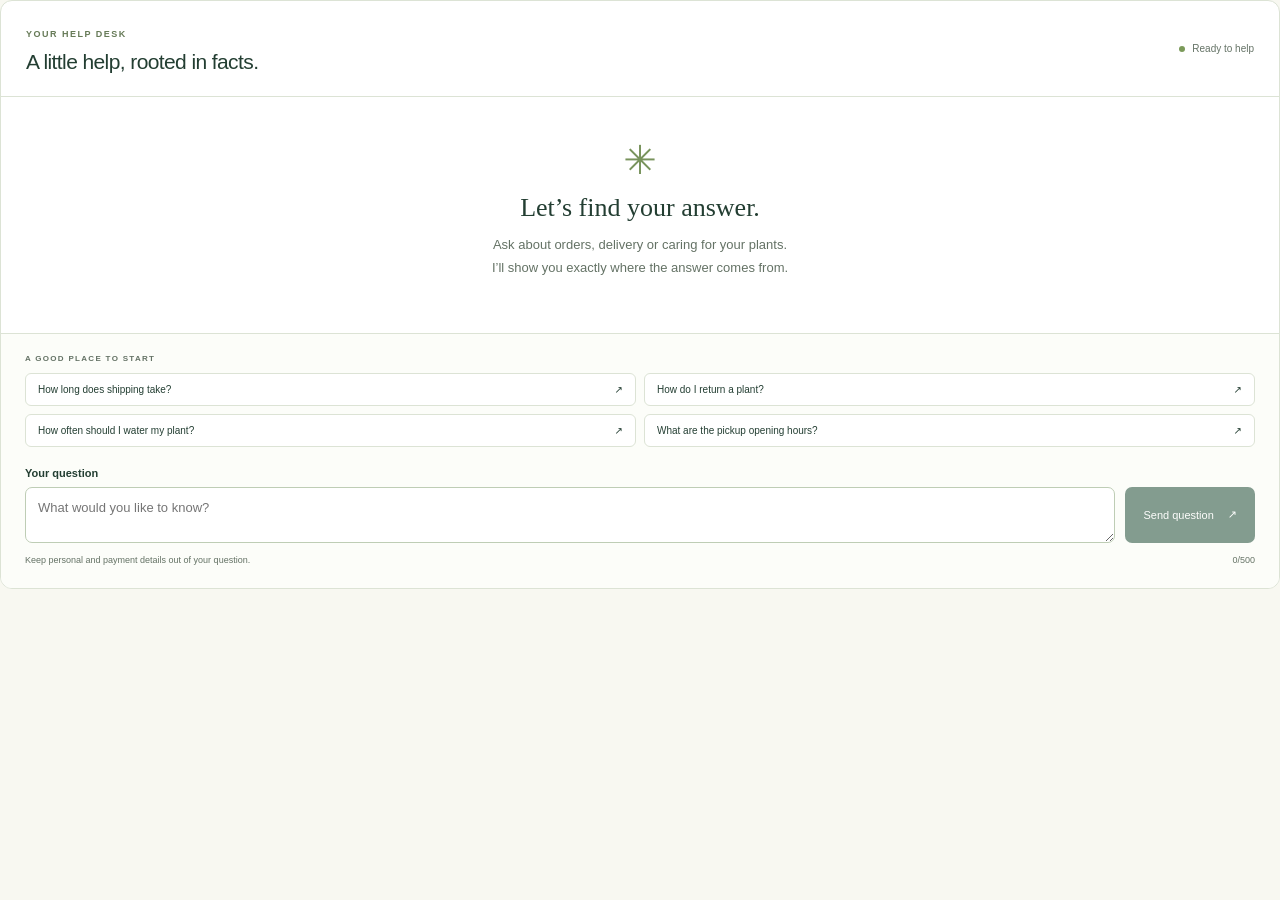
Test: offers two clarification buttons and asks the selected question
Type "Tell me about delivery" into the text box labelled "Your question" at (570, 515), box [25, 487, 1115, 543]
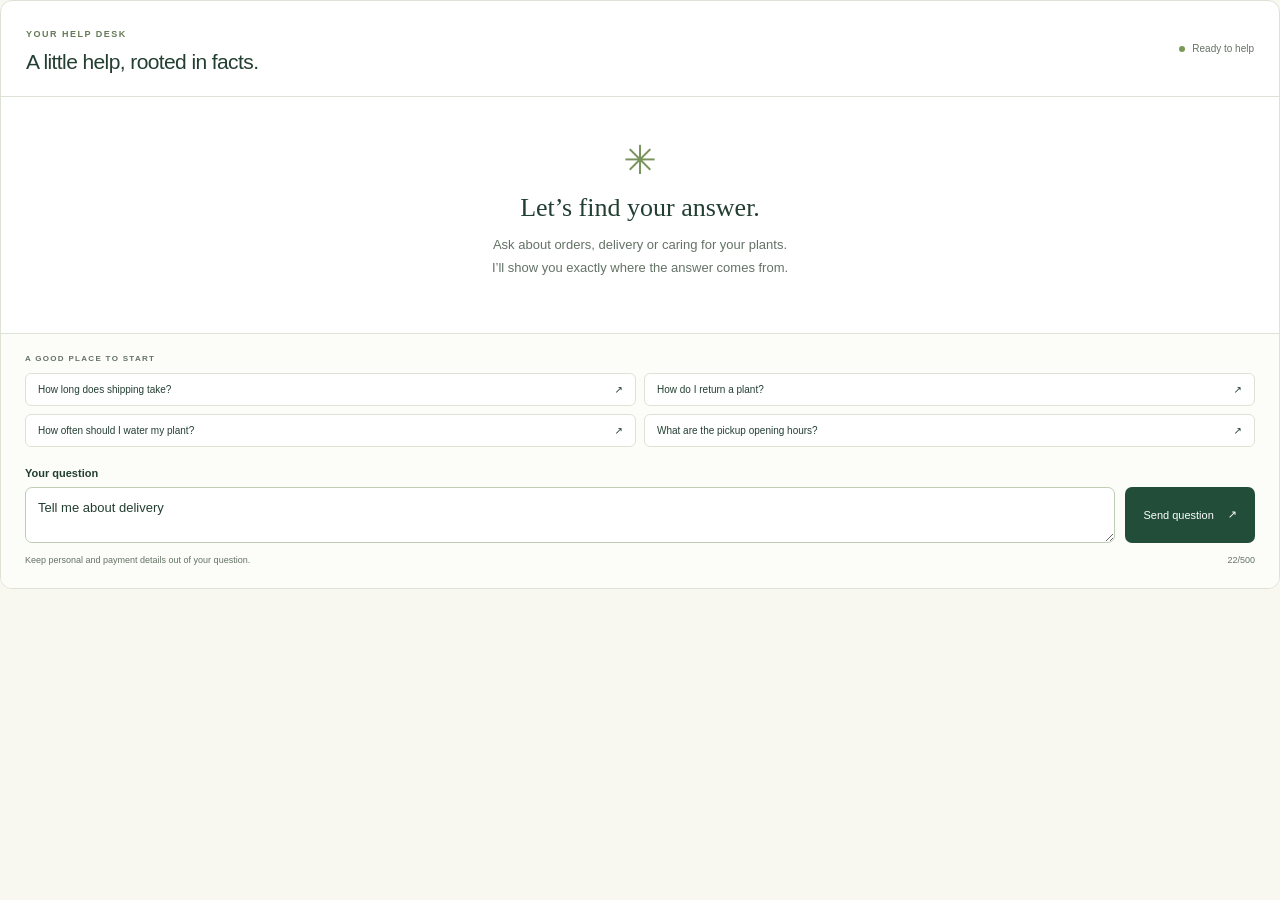
Click the button "Send question ↗" at (1190, 515), box [1125, 487, 1255, 543]
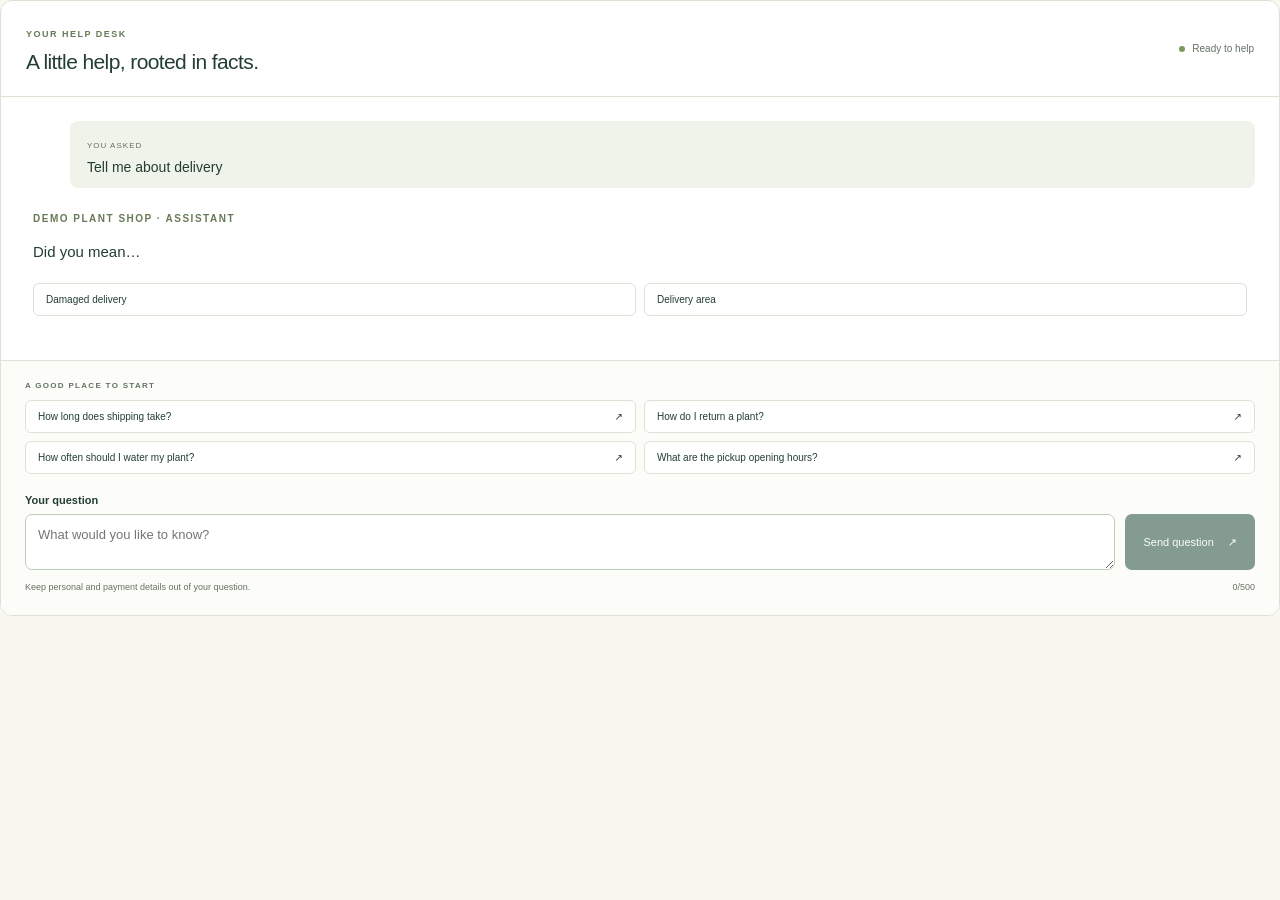
Check: the text "Did you mean…" is shown, box [33, 243, 141, 260]
Check: the button "Damaged delivery" is enabled
Click the button "Damaged delivery" at (86, 300), box [33, 283, 636, 316]
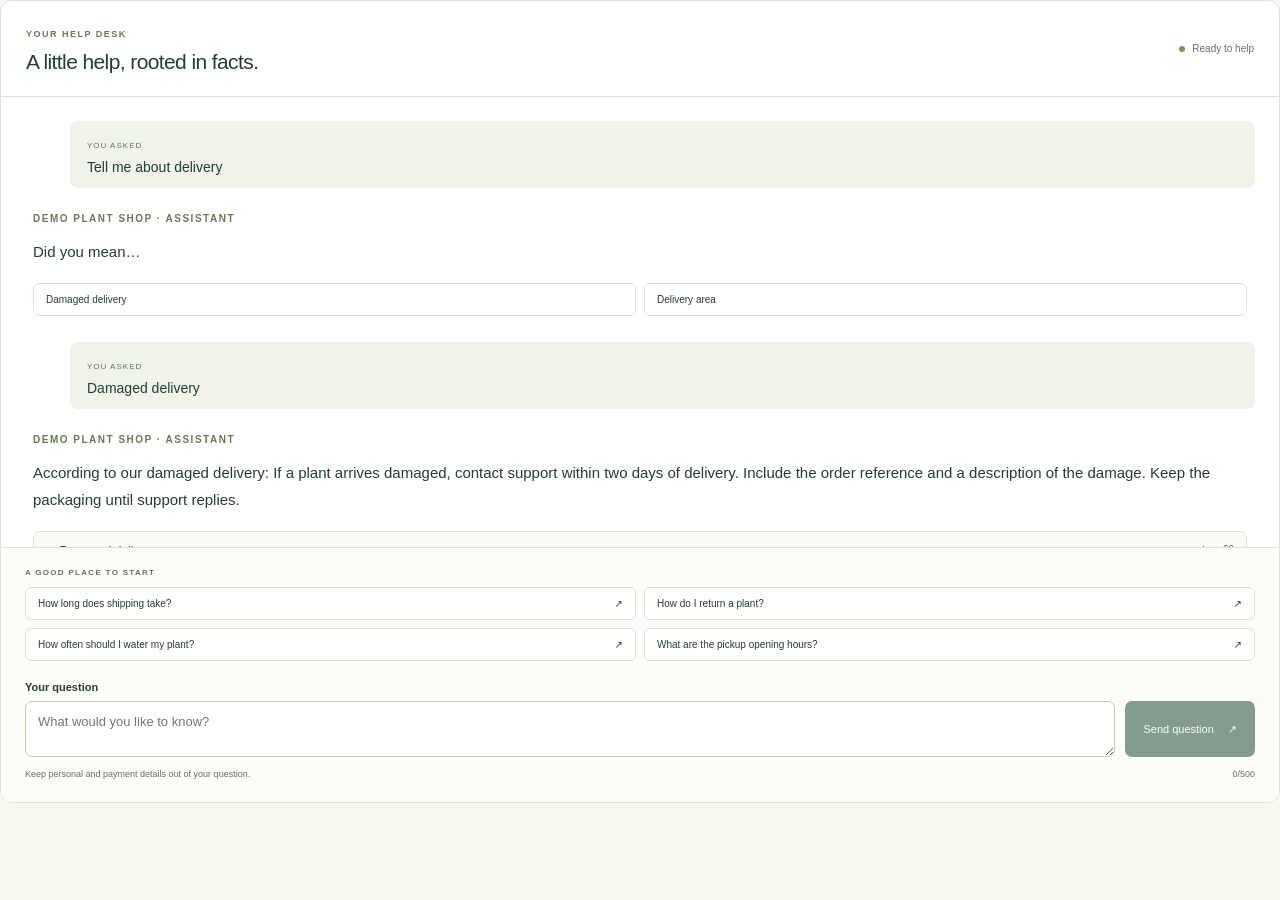
Check: the text with test id "answer" does not show "not covered", box [33, 243, 141, 260]
Check: the text with test id "answer" shows "According to our", box [33, 464, 1214, 508]
Check: the text "Damaged delivery" is shown, box [87, 380, 200, 396]
